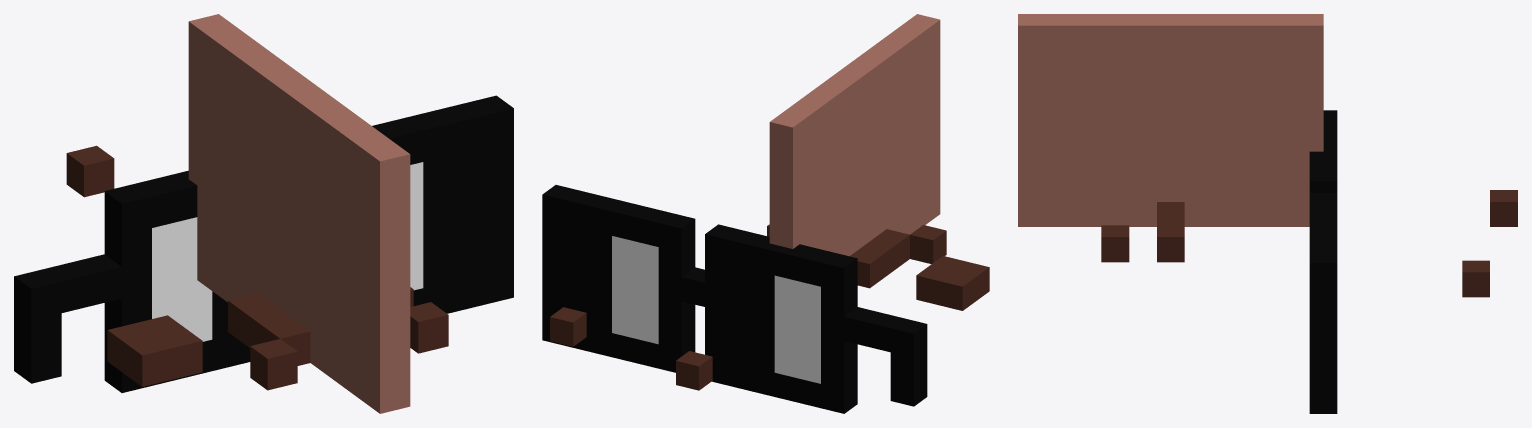
File: cookie.glb
The picture shows the model from 3 angles, left to right: view 1: azimuth 30°, elevation 25°; view 2: azimuth 150°, elevation 25°; view 3: azimuth 270°, elevation 25°; orthographic projection. The views are drawn at different scales.
Visible parts, largest first — view 1: circle-20, glasses, layer-2, base-20; view 2: glasses, circle-20, layer-2, base-20; view 3: circle-20, glasses, base-20.
Part boxes in pixels (x1,y1,x2,y2): circle-20: (188, 14, 410, 413); glasses: (14, 95, 513, 392); layer-2: (152, 147, 483, 341); base-20: (66, 145, 448, 390); glasses: (542, 185, 927, 413); circle-20: (769, 14, 940, 256); layer-2: (565, 224, 820, 383); base-20: (550, 224, 989, 390); circle-20: (1018, 14, 1323, 226); glasses: (1309, 110, 1337, 413); base-20: (1101, 190, 1517, 297).
Bounding box in the file's own units: 16 × 11 × 18.
Materials: 6 (6 with a texture image).
